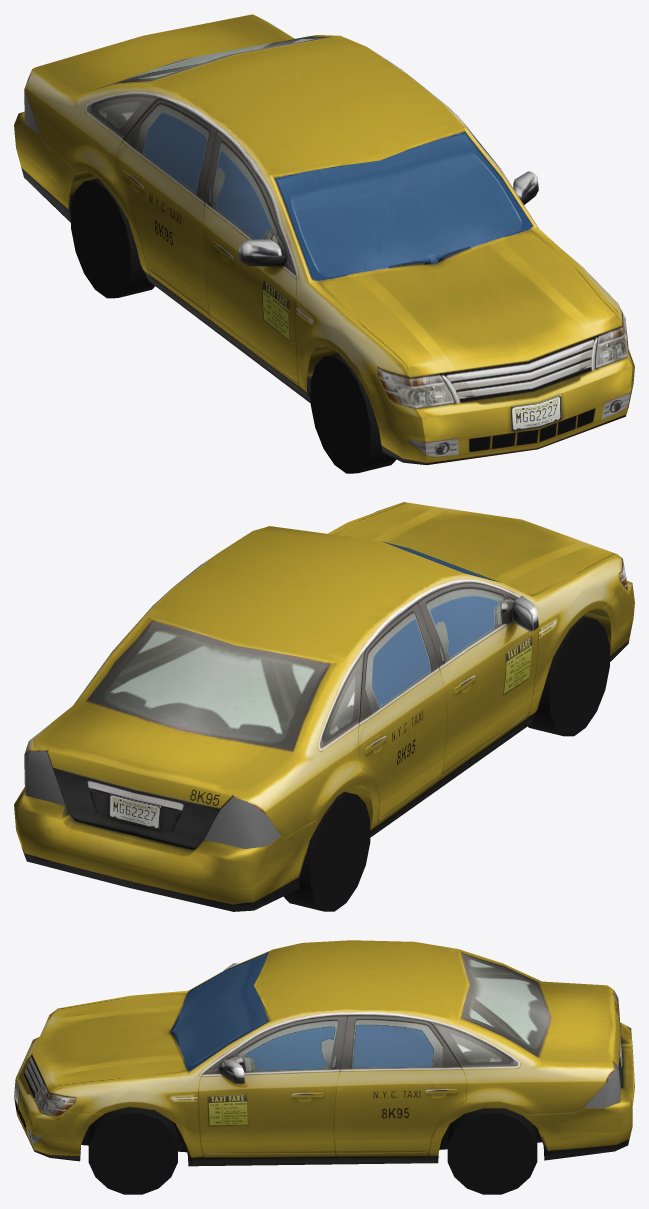
Rendered from US_taxi.FBX.
3 views of the same model, one above another, from view 1: azimuth 30°, elevation 25°; view 2: azimuth 150°, elevation 25°; view 3: azimuth 270°, elevation 25° (orthographic). The views are drawn at different scales.
Parts seen in each view (by area): view 1: US_taxi001, door001, tyre_right_front001, tyre_right_back001; view 2: US_taxi001, door001, tyre_right_back001, tyre_right_front001, back_light_right002, back_light_right003; view 3: US_taxi001, tyre_left_back001, tyre_left_front001, back_light_right003.
Part boxes in pixels (<box>): US_taxi001: <box>14,14,634,465</box>; door001: <box>115,99,217,315</box>; tyre_right_front001: <box>310,353,396,473</box>; tyre_right_back001: <box>71,178,154,298</box>; US_taxi001: <box>14,502,634,911</box>; door001: <box>358,602,447,820</box>; tyre_right_back001: <box>283,791,370,911</box>; tyre_right_front001: <box>528,616,609,736</box>; back_light_right002: <box>204,797,280,848</box>; back_light_right003: <box>24,751,65,805</box>; US_taxi001: <box>14,940,634,1166</box>; tyre_left_back001: <box>447,1108,537,1194</box>; tyre_left_front001: <box>88,1107,177,1194</box>; back_light_right003: <box>583,1063,620,1108</box>.
Size of the model in its own units: 1926 by 1462 by 4664.
